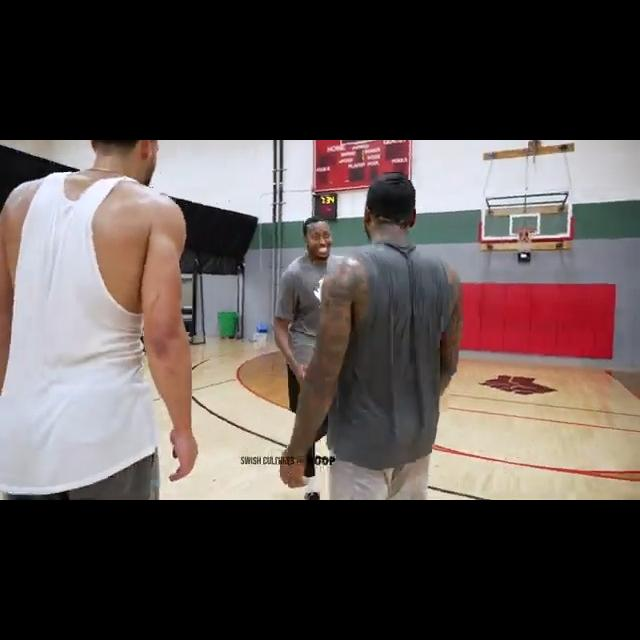hoop: (515, 228, 536, 255)
